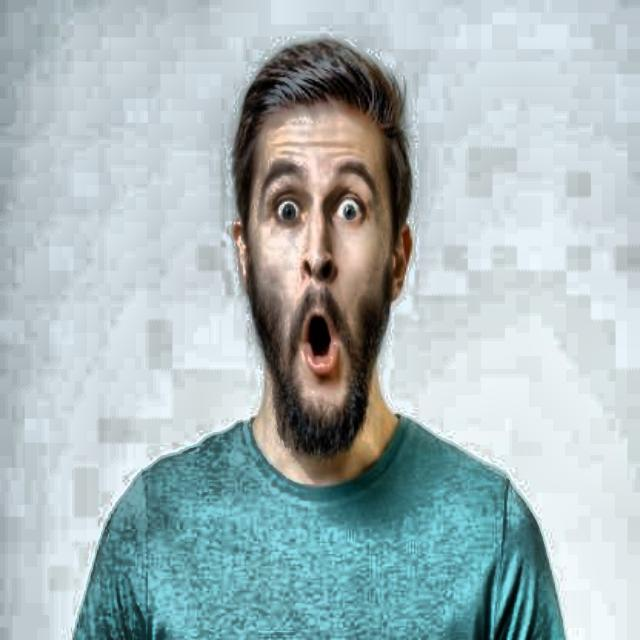surprised: (219, 49, 432, 485)
